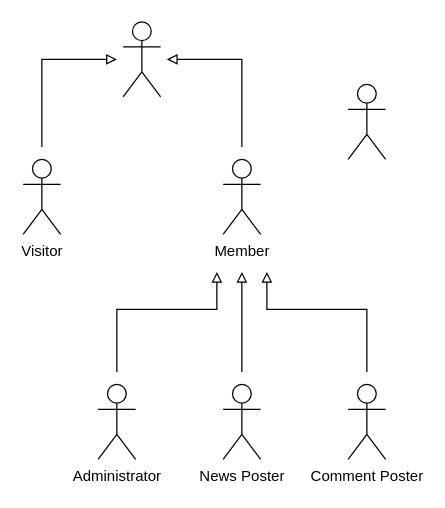
Some shapes in this 445 by 508 pixel diagram are drawn without their labels. The centre of each missing label's shape, as x and y in pixels:
API: (x=366, y=121)
User: (x=141, y=59)
